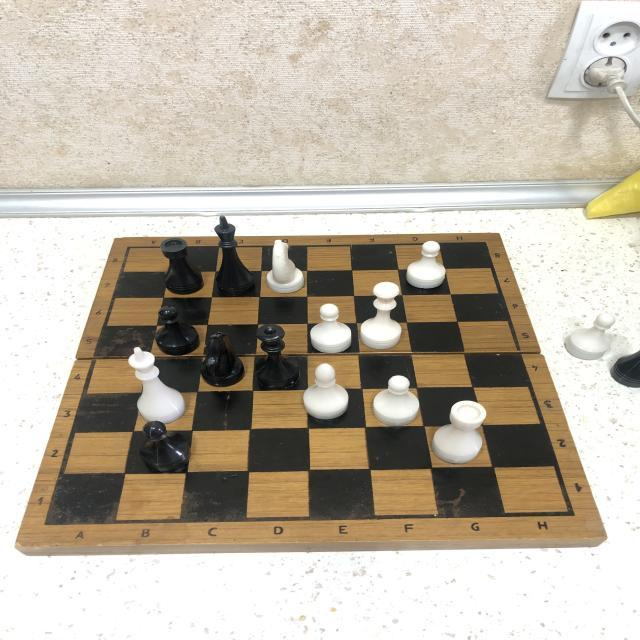chess-table-corners: (550, 501, 592, 526), (28, 511, 65, 538), (121, 242, 141, 258), (474, 235, 495, 250)
